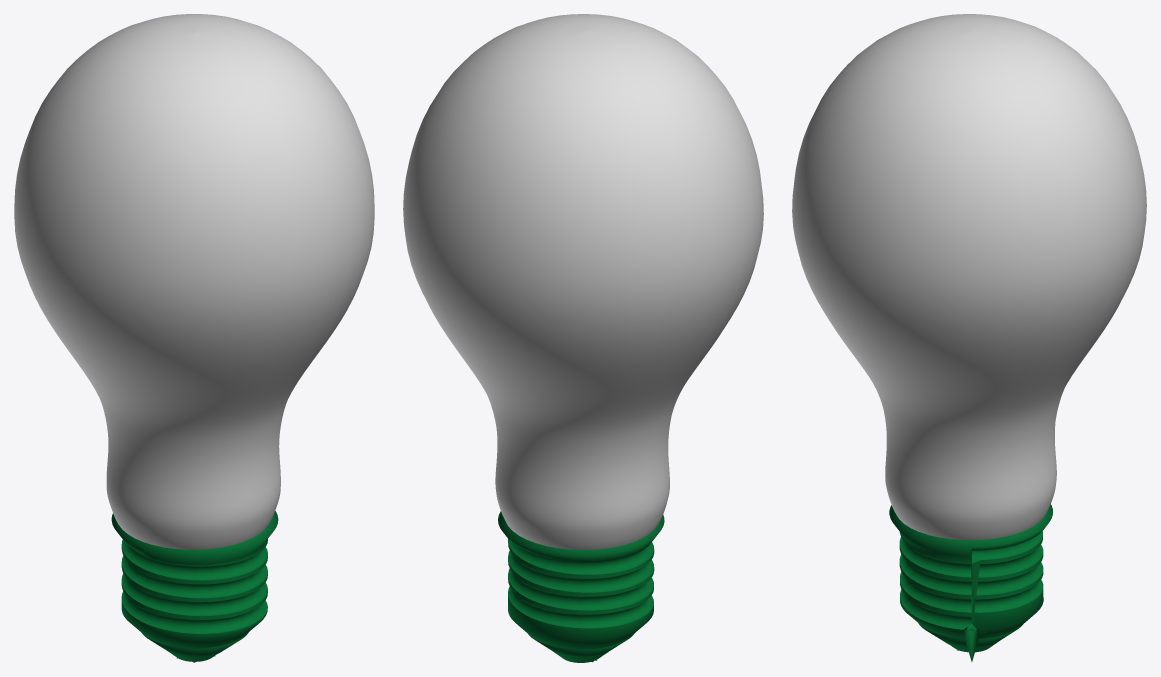
Rendered from Bulb.FBX.
3 renders of one model, left to right at view 1: azimuth 30°, elevation 25°; view 2: azimuth 150°, elevation 25°; view 3: azimuth 270°, elevation 25°, orthographic.
Parts seen in each view (by area): view 1: Line01, Cylinder02, Cylinder01; view 2: Line01, Cylinder02, Cylinder01; view 3: Line01, Cylinder02, Cylinder01.
Boxes of the visible parts, box(x1,y1,x2,y2) form: Line01: box(14, 14, 374, 549); Cylinder02: box(111, 511, 278, 661); Cylinder01: box(142, 632, 248, 658); Line01: box(403, 14, 763, 549); Cylinder02: box(498, 511, 664, 662); Cylinder01: box(528, 633, 634, 656); Line01: box(792, 14, 1146, 540); Cylinder02: box(889, 504, 1052, 661); Cylinder01: box(918, 623, 1022, 648).
Bounding box in the file's own units: 617 × 1178 × 617.
